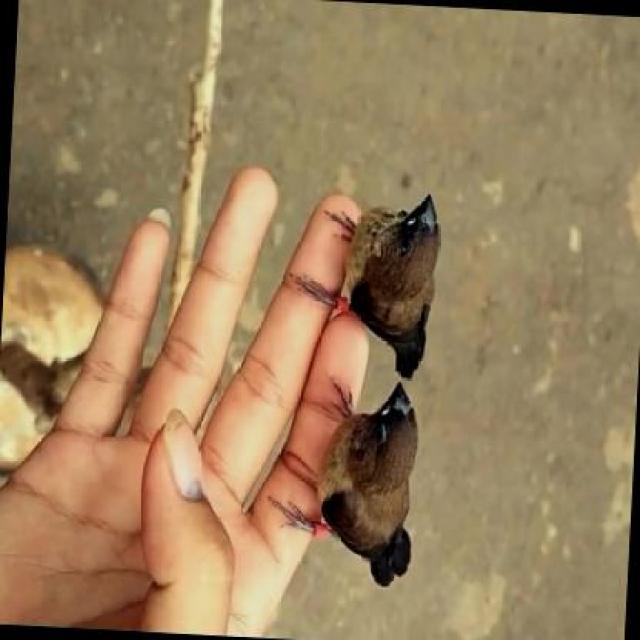Bird: (322, 379, 447, 589), (343, 183, 463, 376)
